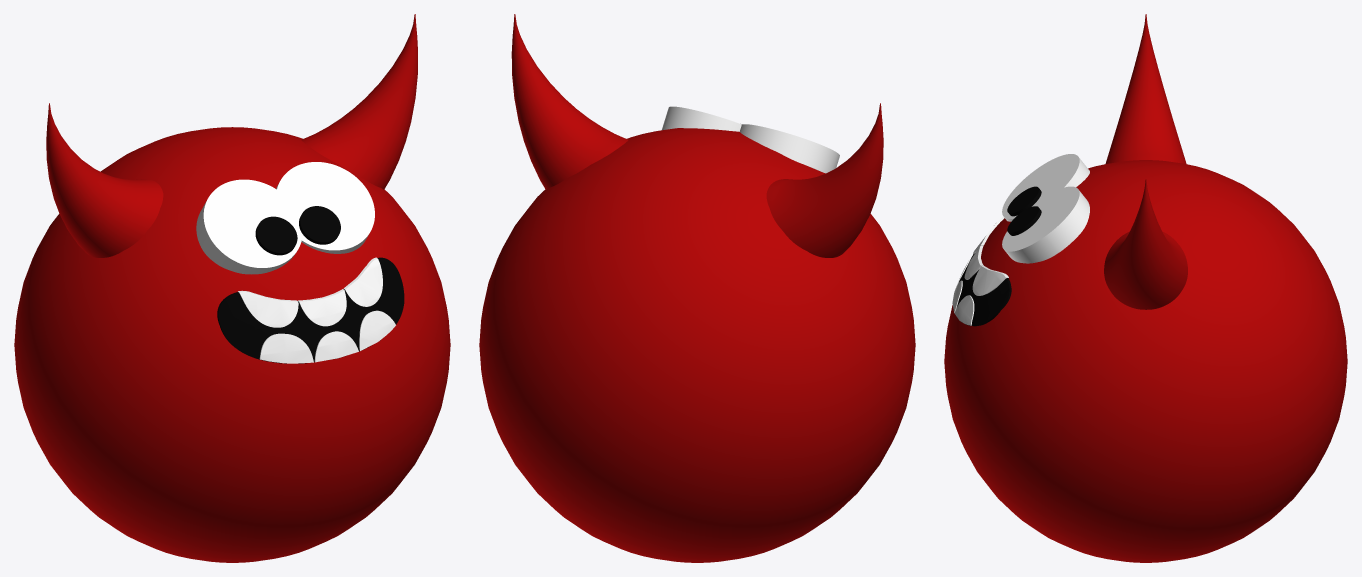
3 views of the same model, side by side, from view 1: azimuth 30°, elevation 25°; view 2: azimuth 150°, elevation 25°; view 3: azimuth 270°, elevation 25° (orthographic). The views are drawn at different scales.
Parts seen in each view (by area): view 1: Sweep_1, teeth_1, mouth_1; view 2: Sweep_1, teeth_1; view 3: Sweep_1, teeth_1, mouth_1.
Part boxes in pixels (x1=…): Sweep_1: x1=14, y1=14, x2=450, y2=562; teeth_1: x1=196, y1=162, x2=395, y2=363; mouth_1: x1=217, y1=206, x2=404, y2=363; Sweep_1: x1=479, y1=14, x2=915, y2=562; teeth_1: x1=662, y1=106, x2=839, y2=173; Sweep_1: x1=944, y1=14, x2=1347, y2=562; teeth_1: x1=952, y1=154, x2=1089, y2=325; mouth_1: x1=956, y1=186, x2=1041, y2=326.
Bounding box in the file's own units: 176 × 215 × 176.
